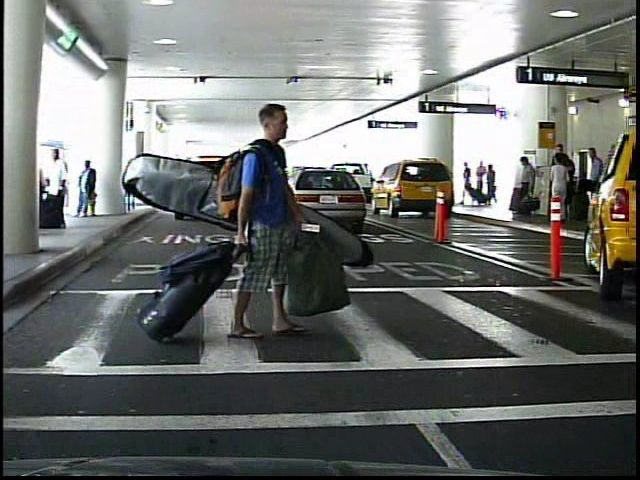person: (232, 96, 326, 360), (38, 146, 72, 232), (74, 158, 101, 225), (582, 145, 605, 222), (550, 143, 572, 221), (515, 157, 538, 222), (549, 155, 572, 202), (461, 160, 475, 208), (476, 161, 488, 208), (485, 162, 496, 206)
